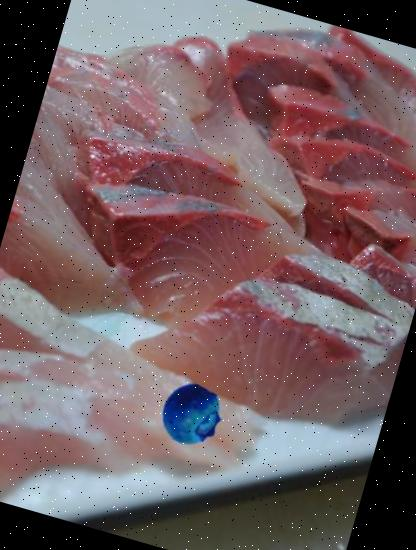Huckleberry: (154, 378, 228, 453)
